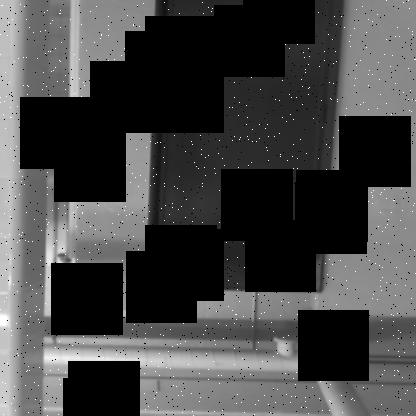Porte: (143, 1, 348, 293)
